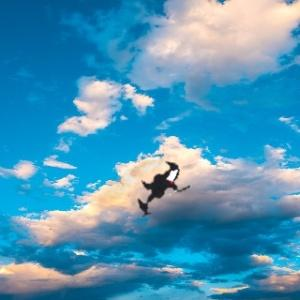drone: (116, 145, 213, 242)
